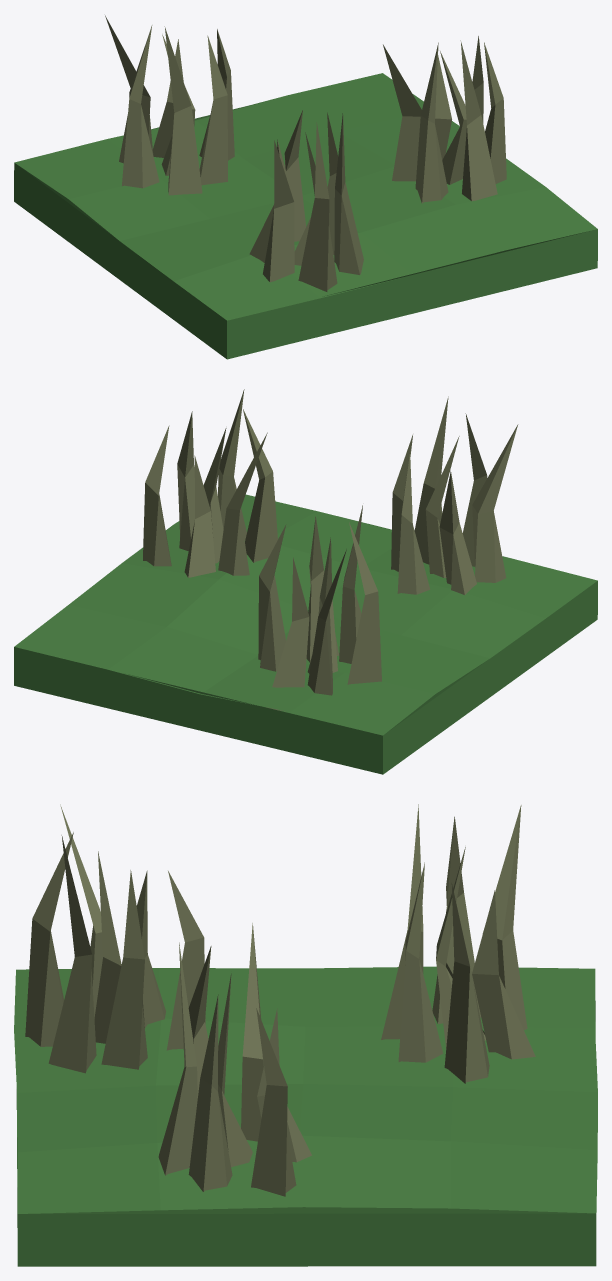
Rendered from Grass04.fbx.
3 views of the same model, one above another, from view 1: azimuth 30°, elevation 25°; view 2: azimuth 150°, elevation 25°; view 3: azimuth 270°, elevation 25° (orthographic). The views are drawn at different scales.
Visible parts, largest first — view 1: Cube, Grass.001, Grass, Grass.002; view 2: Cube, Grass.001, Grass, Grass.002; view 3: Cube, Grass.002, Grass, Grass.001.
Part boxes in pixels (left/top/right/bottom): Cube: left=14, top=73, right=597, bottom=359; Grass.001: left=383, top=36, right=506, bottom=203; Grass: left=105, top=15, right=234, bottom=195; Grass.002: left=249, top=110, right=363, bottom=291; Cube: left=14, top=494, right=597, bottom=774; Grass.001: left=143, top=389, right=277, bottom=577; Grass: left=258, top=505, right=381, bottom=711; Grass.002: left=391, top=396, right=518, bottom=594; Cube: left=14, top=966, right=597, bottom=1266; Grass.002: left=25, top=804, right=205, bottom=1073; Grass: left=381, top=804, right=535, bottom=1083; Grass.001: left=158, top=923, right=311, bottom=1196.
Bounding box in the file's own units: 201 × 105 × 202.
